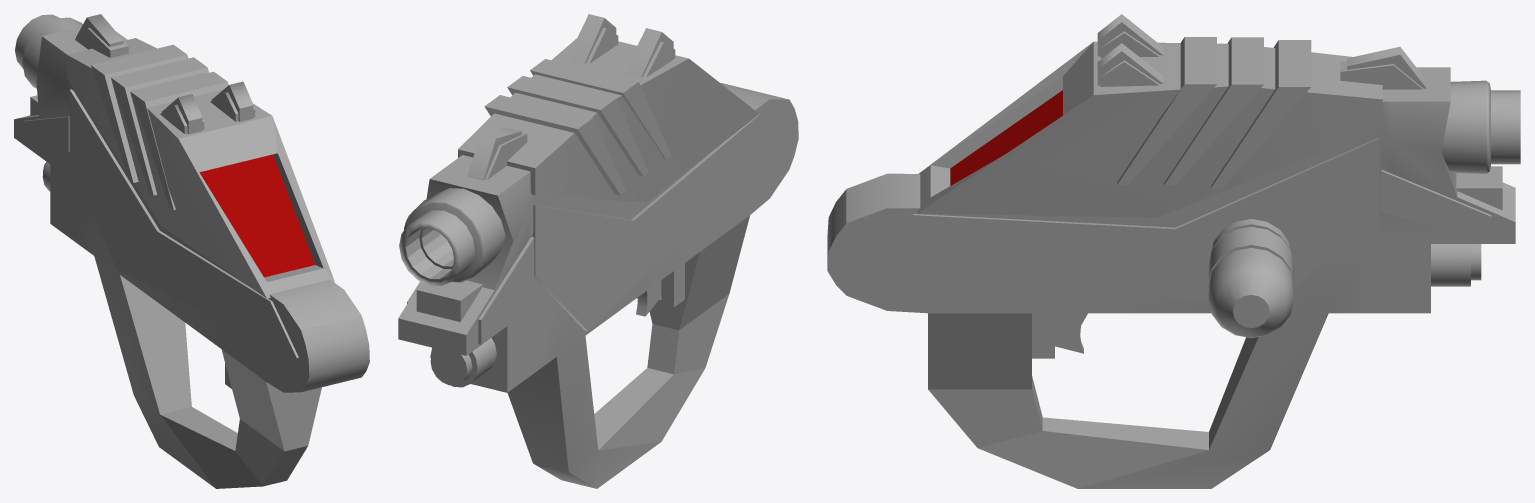
File: Weapon01.fbx
3 views of the same model, side by side, from view 1: azimuth 30°, elevation 25°; view 2: azimuth 150°, elevation 25°; view 3: azimuth 270°, elevation 25° (orthographic). The views are drawn at different scales.
Parts seen in each view (by area): view 1: Weapon; view 2: Weapon, Trigger; view 3: Weapon, Ammo, Trigger.
Part boxes in pixels (x1=…): Weapon: x1=14, y1=14, x2=369, y2=488; Weapon: x1=398, y1=14, x2=798, y2=488; Trigger: x1=636, y1=280, x2=661, y2=316; Weapon: x1=827, y1=14, x2=1520, y2=488; Ammo: x1=1208, y1=226, x2=1293, y2=338; Trigger: x1=1055, y1=313, x2=1087, y2=353.
Size of the model in its own units: 3.9 by 8 by 11.27.
